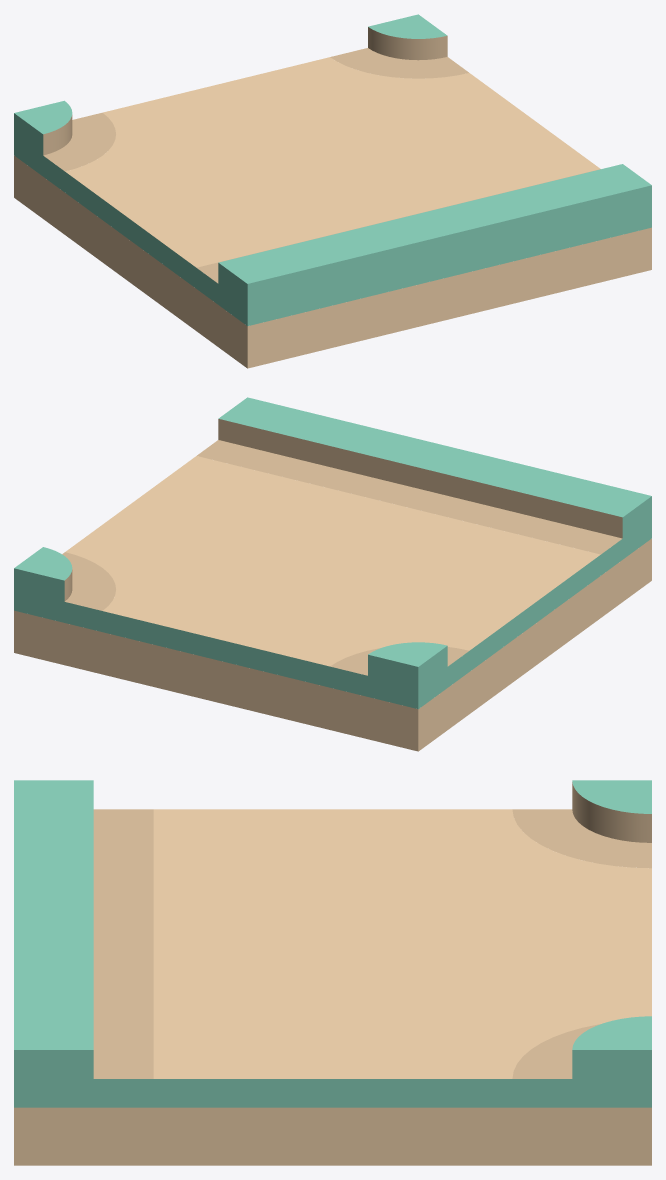
The model's file is tile_split.glb.
3 views of the same model, one above another, from view 1: azimuth 30°, elevation 25°; view 2: azimuth 150°, elevation 25°; view 3: azimuth 270°, elevation 25° (orthographic). The views are drawn at different scales.
Visible parts, largest first — view 1: tile_split; view 2: tile_split; view 3: tile_split.
Boxes of the visible parts, x1,y1,x2,y2 form: tile_split: (14, 14, 651, 368); tile_split: (14, 397, 651, 751); tile_split: (14, 780, 651, 1165).
Bounding box in the file's own units: 1 × 0.2 × 1.
